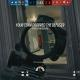Friend_label: (56, 39, 59, 42)
